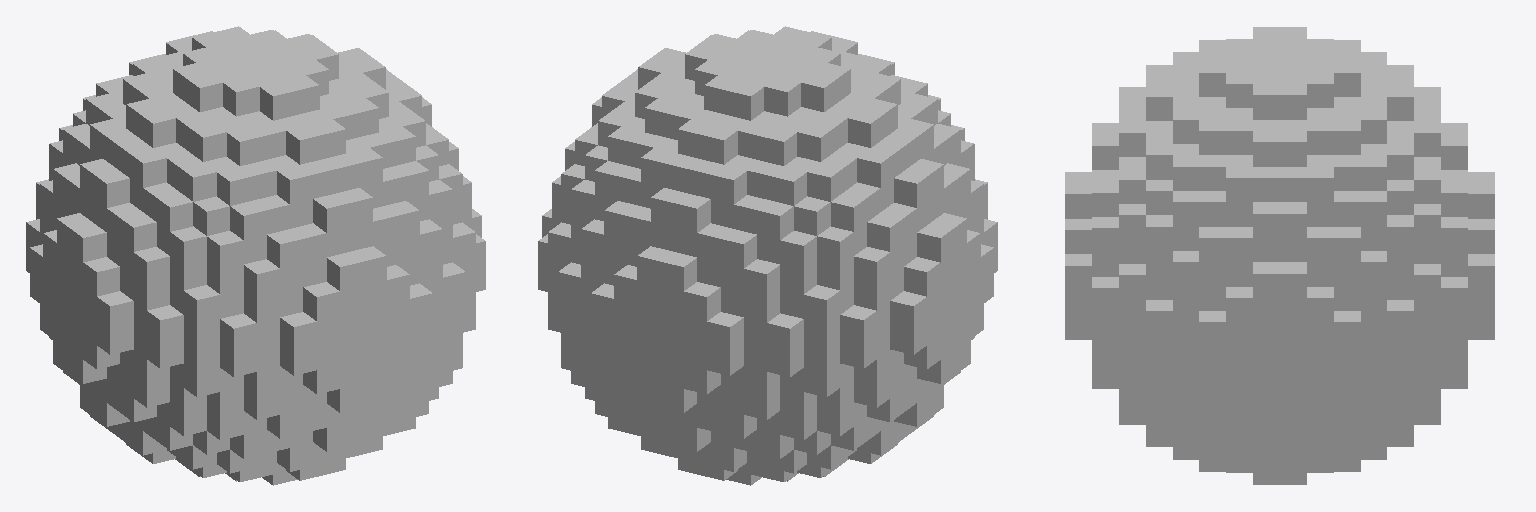
File: Star.obj
3 renders of one model, left to right at view 1: azimuth 30°, elevation 25°; view 2: azimuth 150°, elevation 25°; view 3: azimuth 270°, elevation 25°, orthographic.
Visible parts, largest first — view 1: Star; view 2: Star; view 3: Star.
Part boxes in pixels (left/top/right/bottom): Star: left=26, top=26, right=485, bottom=485; Star: left=538, top=26, right=997, bottom=485; Star: left=1065, top=27, right=1494, bottom=484.
Size of the model in its own units: 16 by 16 by 16.